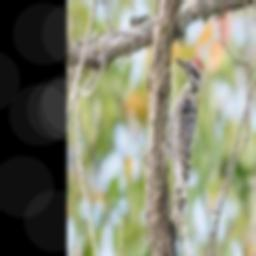Woodpecker: (166, 56, 203, 256)
